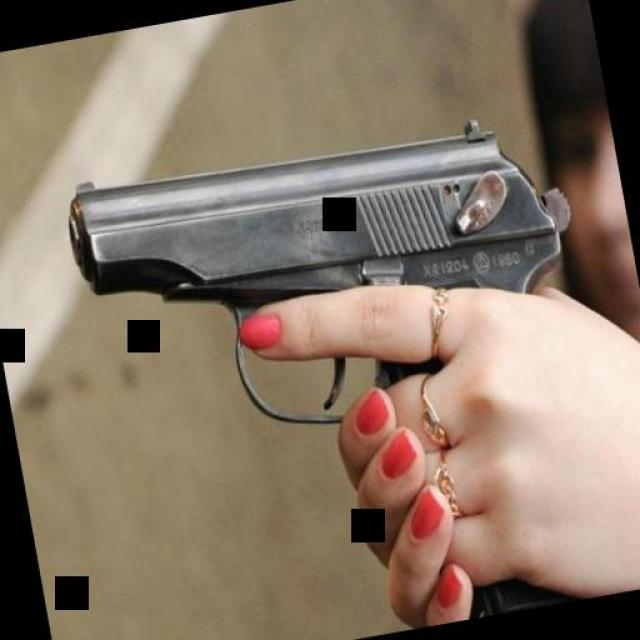gun: (53, 89, 636, 640)
